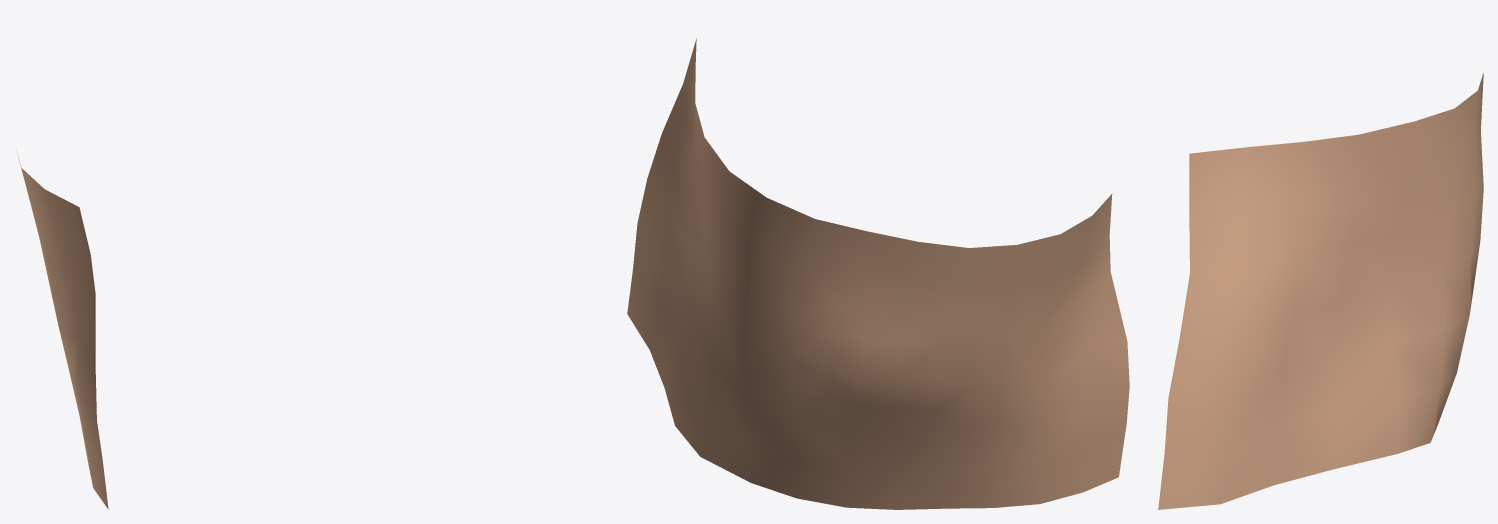
File: posterior-region-of-elbow-l.glb
The picture shows the model from 3 angles, left to right: view 1: azimuth 30°, elevation 25°; view 2: azimuth 150°, elevation 25°; view 3: azimuth 270°, elevation 25°; orthographic projection. The views are drawn at different scales.
Parts seen in each view (by area): view 1: Posterior region of elbow.l; view 2: Posterior region of elbow.l; view 3: Posterior region of elbow.l.
Boxes of the visible parts, x1,y1,x2,y2 form: Posterior region of elbow.l: (17, 152, 108, 509); Posterior region of elbow.l: (627, 38, 1129, 509); Posterior region of elbow.l: (1158, 73, 1483, 509).
Bounding box in the file's own units: 0.0968 × 0.0667 × 0.0515.
